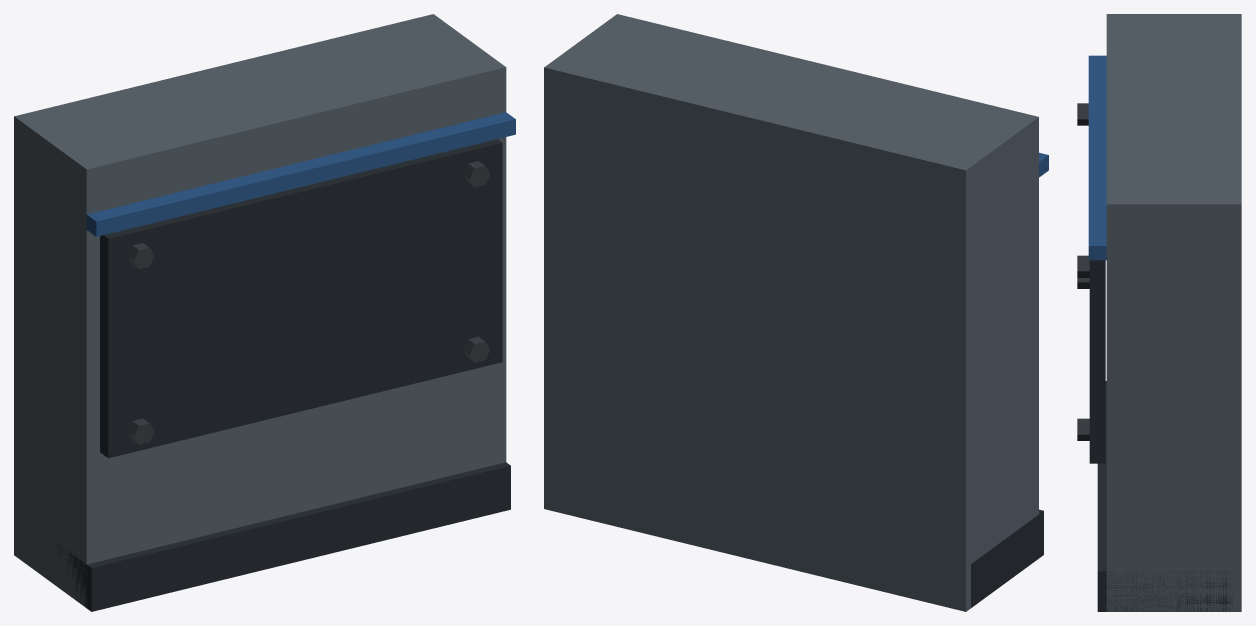
The model's file is mandalorian_wall.glb.
3 views of the same model, side by side, from view 1: azimuth 30°, elevation 25°; view 2: azimuth 150°, elevation 25°; view 3: azimuth 270°, elevation 25° (orthographic). The views are drawn at different scales.
Parts seen in each view (by area): view 1: mandalorian_wall; view 2: mandalorian_wall; view 3: mandalorian_wall.
Part boxes in pixels (left/top/right/bottom): mandalorian_wall: left=14, top=14, right=515, bottom=611; mandalorian_wall: left=544, top=14, right=1048, bottom=611; mandalorian_wall: left=1077, top=14, right=1241, bottom=611.
Size of the model in its own units: 1 by 1 by 0.365.
